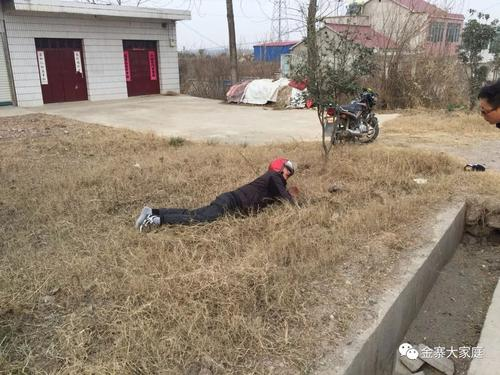fall: (133, 147, 310, 236)
